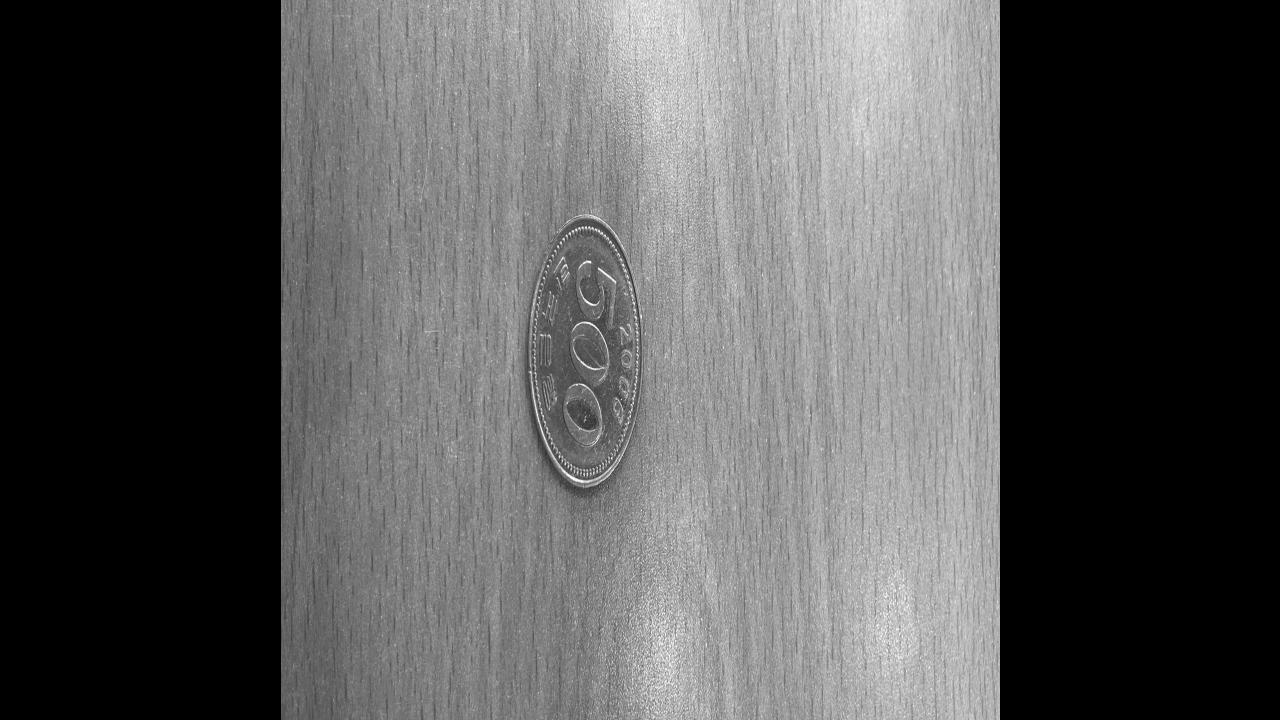coin: (526, 214, 642, 492)
